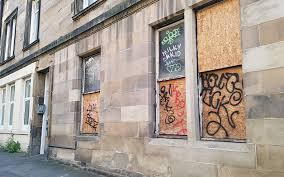graffiti: (200, 73, 241, 137), (161, 82, 188, 135), (162, 30, 182, 79), (84, 100, 100, 132)
